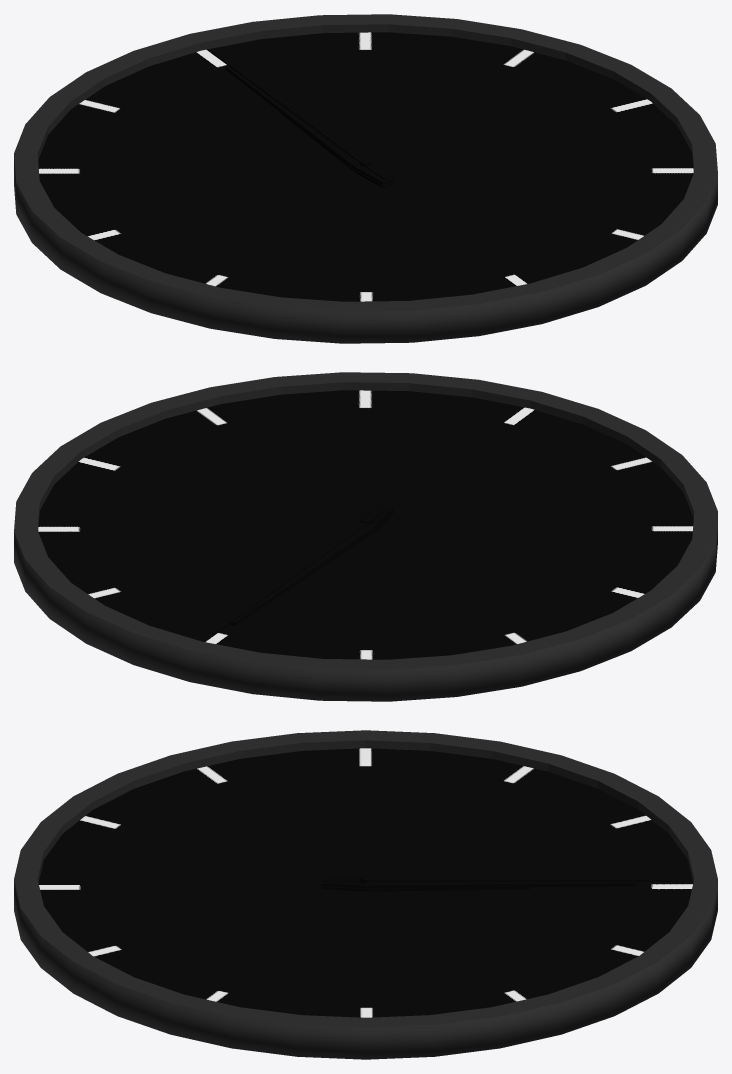
The model's file is SM_Clock.fbx.
3 renders of one model, top to bottom at view 1: azimuth 30°, elevation 25°; view 2: azimuth 150°, elevation 25°; view 3: azimuth 270°, elevation 25°, orthographic.
Visible parts, largest first — view 1: Housing, MinuteHand, SecondHand; view 2: Housing, MinuteHand, SecondHand; view 3: Housing, MinuteHand, SecondHand, HourHand.
Boxes of the visible parts, x1,y1,x2,y2 form: Housing: [14, 14, 717, 343]; MinuteHand: [225, 64, 393, 184]; SecondHand: [211, 51, 389, 180]; Housing: [14, 372, 717, 701]; MinuteHand: [225, 505, 393, 625]; SecondHand: [211, 504, 389, 634]; Housing: [14, 730, 717, 1059]; MinuteHand: [321, 875, 635, 888]; SecondHand: [321, 875, 670, 882]; HourHand: [321, 886, 529, 891].
Bounding box in the file's own units: 200 × 10.47 × 200.
